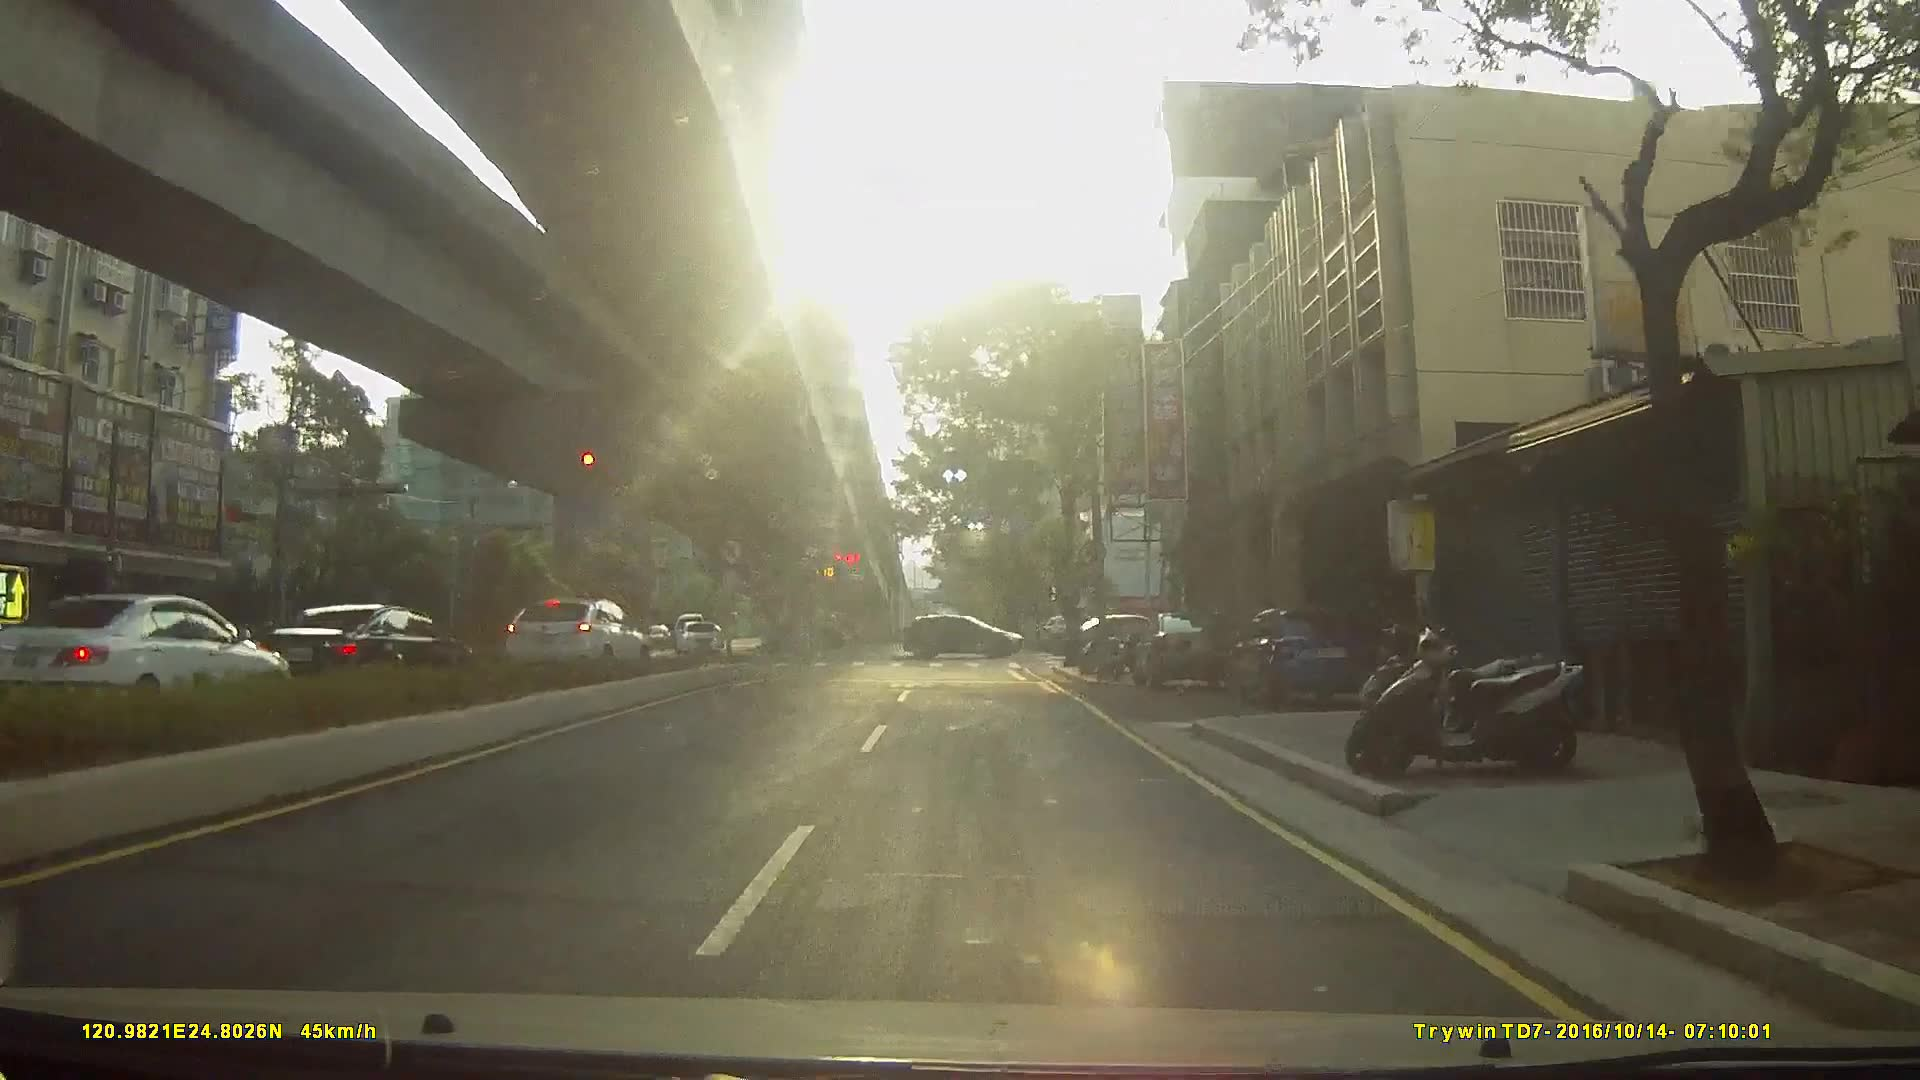vehicle: (1, 589, 290, 717), (251, 601, 472, 695), (1234, 600, 1389, 709), (496, 593, 647, 670), (1133, 603, 1244, 684), (902, 609, 1026, 655), (676, 616, 723, 654), (632, 618, 671, 647)
